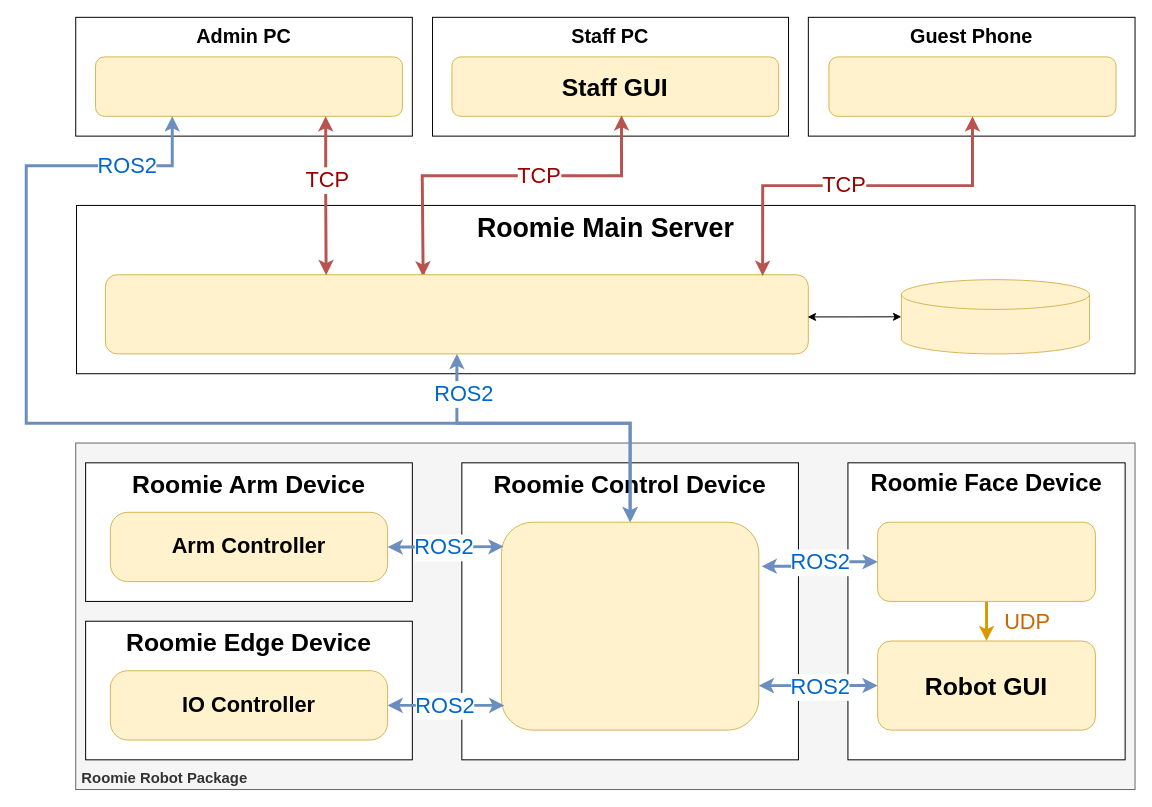
Some shapes in this 1152 by 807 pixel diagram are drawn without their labels. Each missing label, with the centre of its shape:
"Admin GUI" belongs at point (248, 86).
"Guest GUI" belongs at point (972, 86).
"Roomie Controller" belongs at point (629, 625).
"Roomie DB" belongs at point (994, 316).
"Roomie Main Service" belongs at point (456, 314).
"Vision Service" belongs at point (986, 561).
